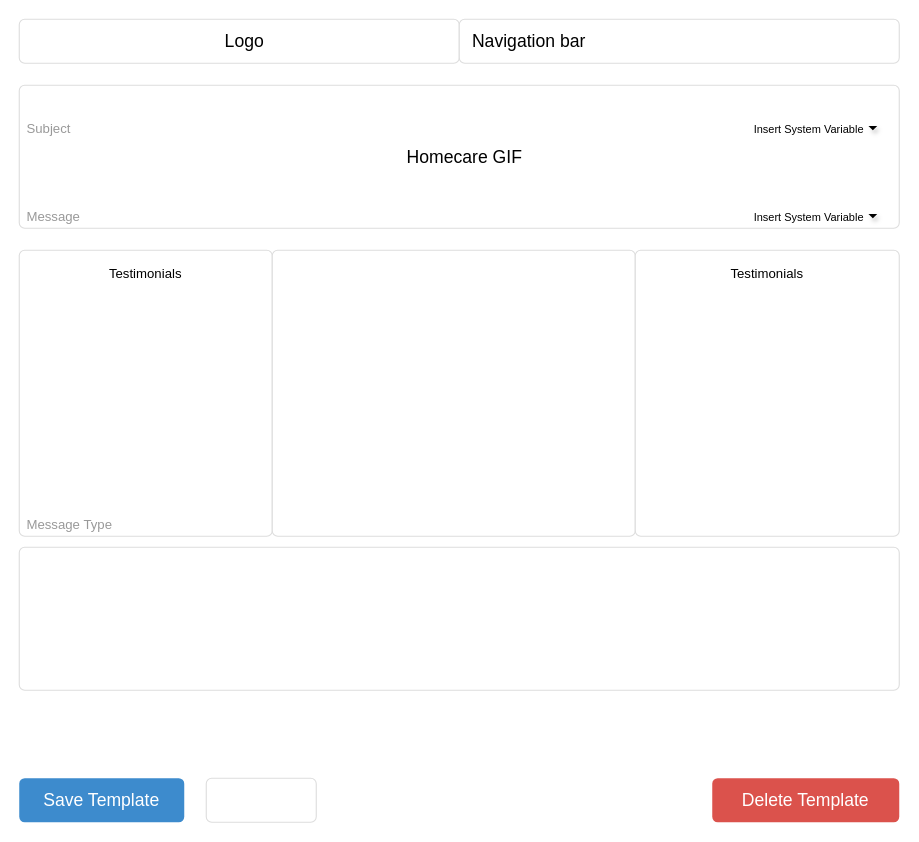
Some shapes in this 919 by 842 pixel diagram are drawn without their labels. Here are the shapes that lost their labels. From the top down, the centre of each, then its label:
At (453,392): "Carousel - Care photos".
At (458,618): "Footer".
At (260,799): "Cancel".
